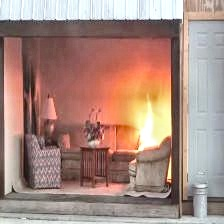fire: (131, 89, 172, 150)
